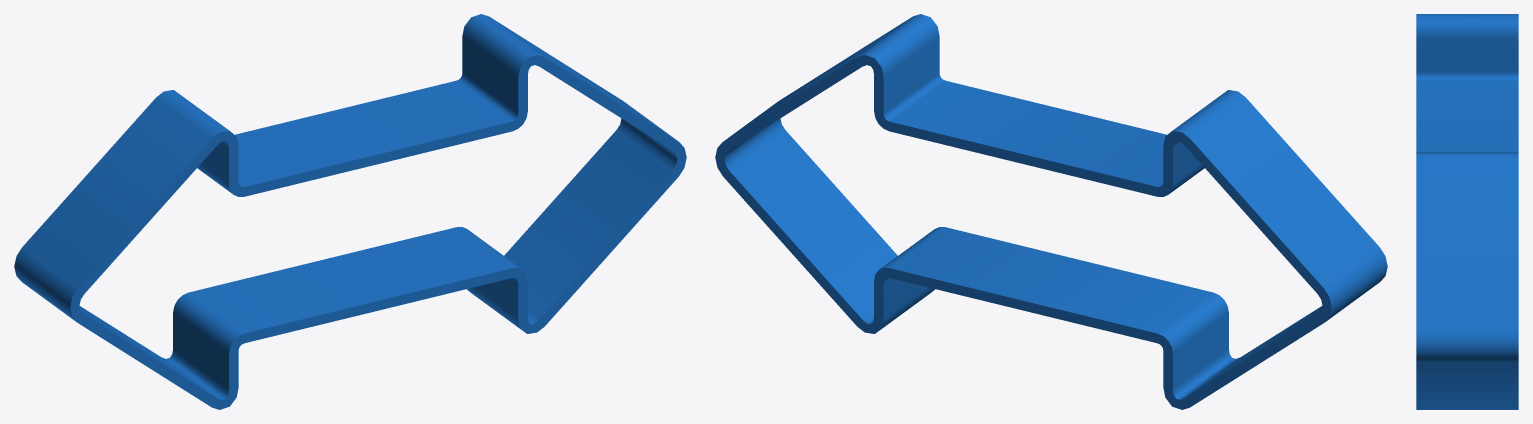
The model's file is Arrow_1.obj.
The picture shows the model from 3 angles, left to right: view 1: azimuth 30°, elevation 25°; view 2: azimuth 150°, elevation 25°; view 3: azimuth 270°, elevation 25°; orthographic projection. The views are drawn at different scales.
Visible parts, largest first — view 1: Arrow_1; view 2: Arrow_1; view 3: Arrow_1.
Part boxes in pixels (x1=…): Arrow_1: x1=14, y1=14, x2=686, y2=409; Arrow_1: x1=715, y1=14, x2=1387, y2=409; Arrow_1: x1=1416, y1=14, x2=1518, y2=409.
Bounding box in the file's own units: 4.72 × 2.03 × 0.7423.
